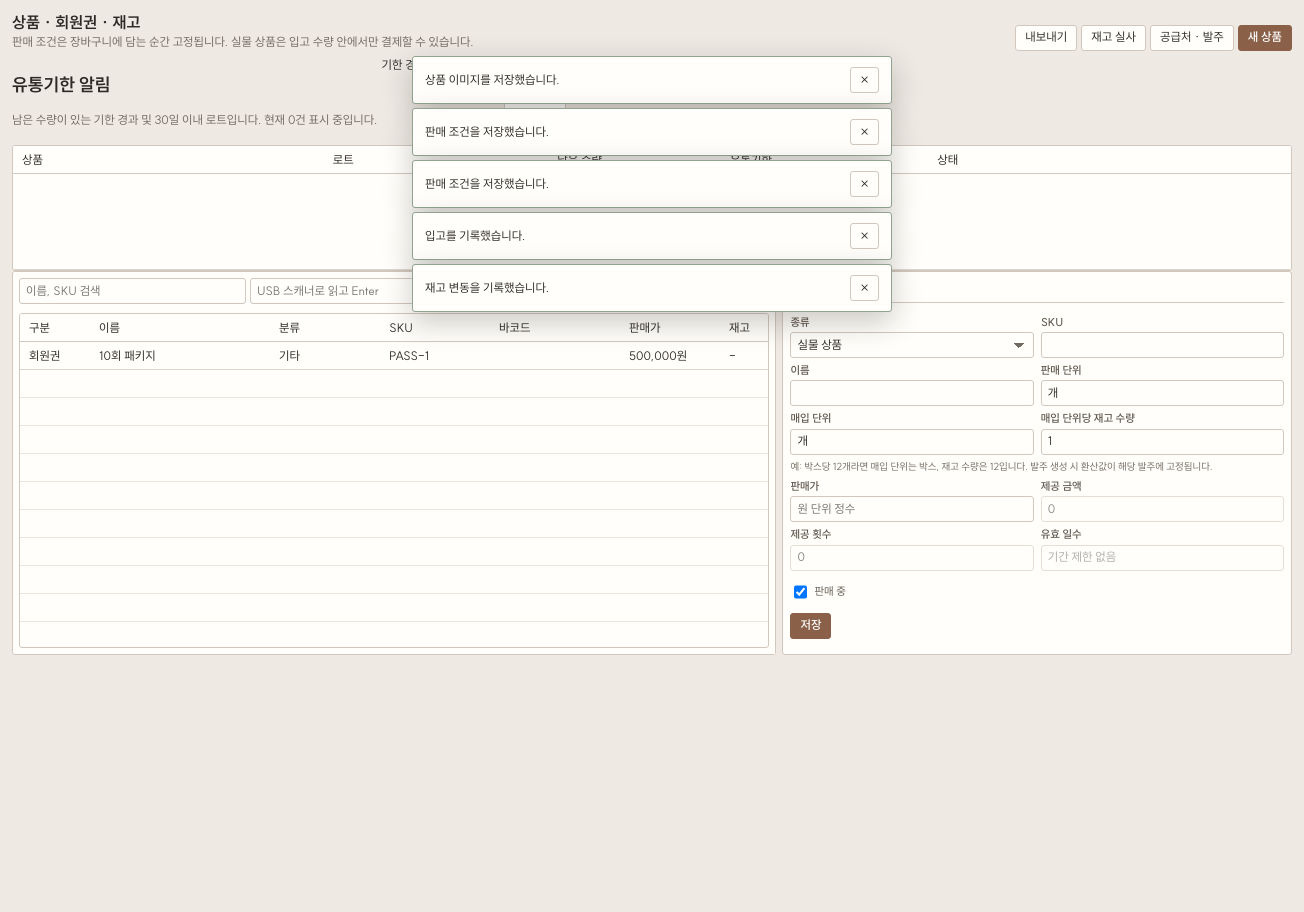
Test case: InventoryPage › 회원권에는 재고 영역이 없다
Click the text "10회 패키지" at {"x": 180, "y": 356}, box x1=90 y1=342 x2=270 y2=370
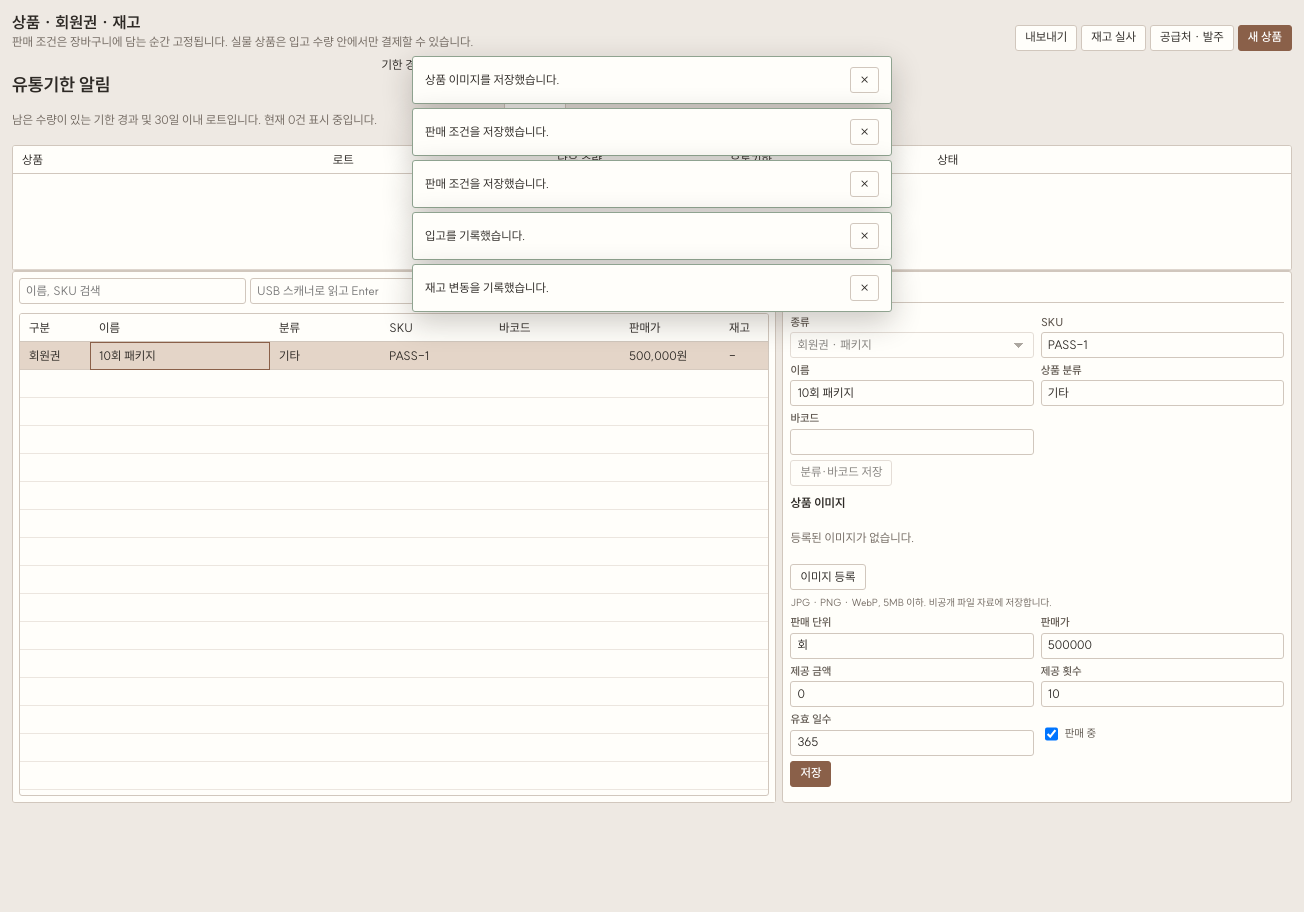
Check: the number field labelled "제공 횟수" holds "10", box x1=1041 y1=681 x2=1284 y2=707
